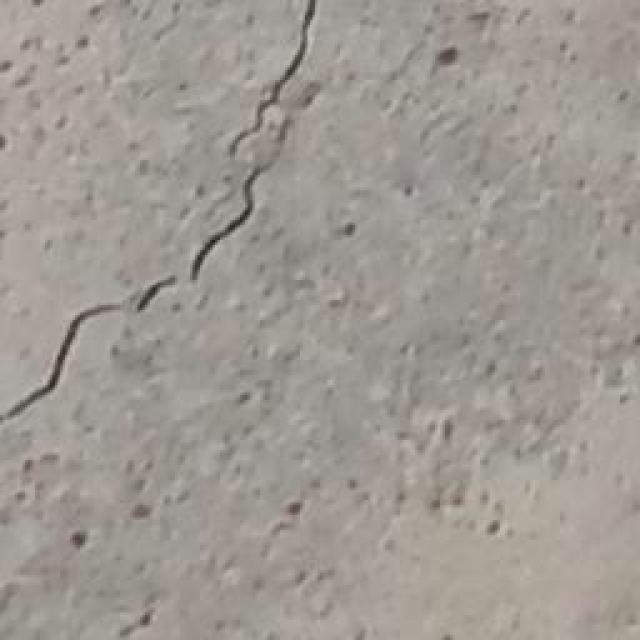concrete-crack: (190, 82, 322, 280), (230, 0, 322, 158), (135, 272, 178, 312)
